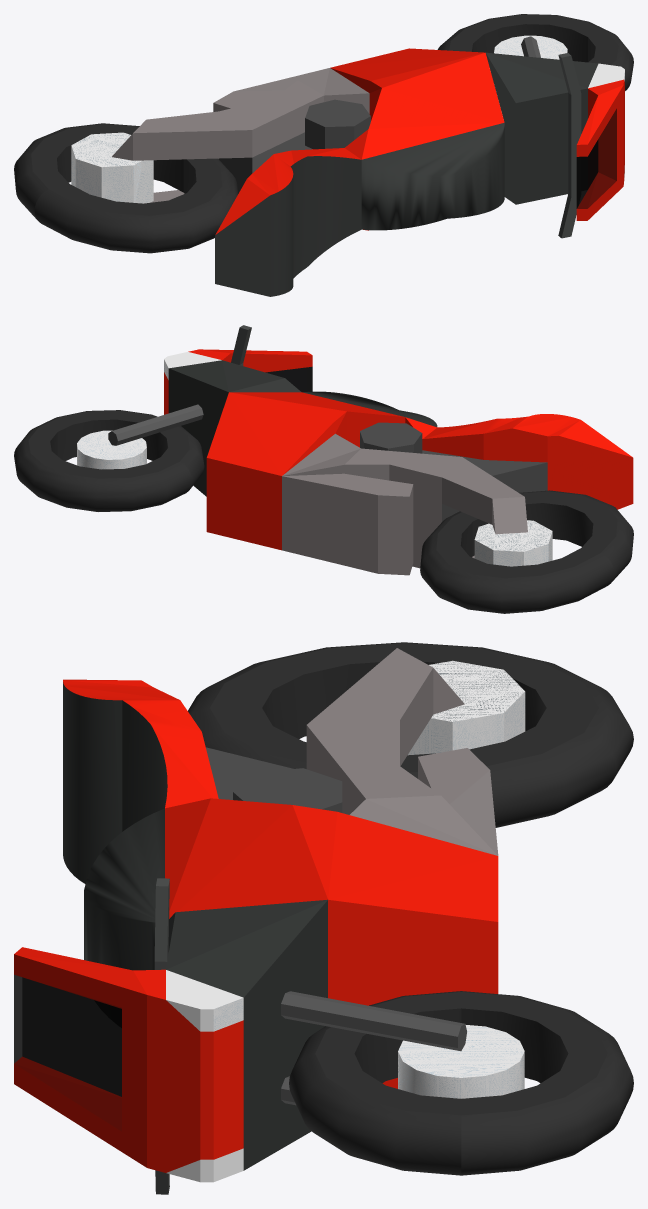
File: motorcycle.dae
3 views of the same model, one above another, from view 1: azimuth 30°, elevation 25°; view 2: azimuth 150°, elevation 25°; view 3: azimuth 270°, elevation 25° (orthographic). The views are drawn at different scales.
Visible parts, largest first — view 1: coords_ME_ID87_MA_material_6, coords_ME_ID63_MA_material_2, coords_ME_ID35_MA_material_0, coords_ME_ID47_MA_material_1, coords_ME_ID129_MA_material_6, coords_ME_ID55_MA_material_2, coords_ME_ID95_MA_material_4, coords_ME_ID20_MA_material_0, coords_ME_ID169_MA_material_10, coords_ME_ID107_MA_material_7, coords_ME_ID28_MA_material_0, coords_ME_ID135_MA_material_8 (+7 smaller); view 2: coords_ME_ID63_MA_material_2, coords_ME_ID47_MA_material_1, coords_ME_ID35_MA_material_0, coords_ME_ID20_MA_material_0, coords_ME_ID129_MA_material_6, coords_ME_ID95_MA_material_4, coords_ME_ID41_MA_material_0, coords_ME_ID123_MA_material_4, coords_ME_ID161_MA_material_10, coords_ME_ID28_MA_material_0, coords_ME_ID55_MA_material_2, coords_ME_ID169_MA_material_10 (+7 smaller); view 3: coords_ME_ID63_MA_material_2, coords_ME_ID20_MA_material_0, coords_ME_ID55_MA_material_2, coords_ME_ID35_MA_material_0, coords_ME_ID87_MA_material_6, coords_ME_ID47_MA_material_1, coords_ME_ID129_MA_material_6, coords_ME_ID135_MA_material_8, coords_ME_ID115_MA_material_8, coords_ME_ID123_MA_material_4, coords_ME_ID95_MA_material_4, coords_ME_ID28_MA_material_0 (+9 smaller).
Boxes of the visible parts, bbox=[...] form: coords_ME_ID87_MA_material_6: bbox=[215, 122, 504, 296]; coords_ME_ID63_MA_material_2: bbox=[215, 48, 504, 234]; coords_ME_ID35_MA_material_0: bbox=[14, 123, 238, 253]; coords_ME_ID47_MA_material_1: bbox=[112, 68, 369, 202]; coords_ME_ID129_MA_material_6: bbox=[486, 52, 598, 204]; coords_ME_ID55_MA_material_2: bbox=[576, 79, 624, 220]; coords_ME_ID95_MA_material_4: bbox=[71, 132, 153, 203]; coords_ME_ID20_MA_material_0: bbox=[437, 14, 633, 90]; coords_ME_ID169_MA_material_10: bbox=[305, 99, 370, 149]; coords_ME_ID107_MA_material_7: bbox=[558, 53, 581, 238]; coords_ME_ID28_MA_material_0: bbox=[472, 24, 595, 62]; coords_ME_ID135_MA_material_8: bbox=[587, 109, 616, 207]; coords_ME_ID63_MA_material_2: bbox=[206, 392, 633, 550]; coords_ME_ID47_MA_material_1: bbox=[282, 433, 527, 575]; coords_ME_ID35_MA_material_0: bbox=[420, 490, 633, 613]; coords_ME_ID20_MA_material_0: bbox=[14, 410, 204, 511]; coords_ME_ID129_MA_material_6: bbox=[168, 360, 301, 496]; coords_ME_ID95_MA_material_4: bbox=[474, 520, 552, 566]; coords_ME_ID41_MA_material_0: bbox=[460, 503, 593, 557]; coords_ME_ID123_MA_material_4: bbox=[77, 430, 146, 469]; coords_ME_ID161_MA_material_10: bbox=[422, 450, 547, 521]; coords_ME_ID28_MA_material_0: bbox=[50, 419, 167, 460]; coords_ME_ID55_MA_material_2: bbox=[164, 349, 312, 414]; coords_ME_ID169_MA_material_10: bbox=[360, 422, 422, 453]; coords_ME_ID63_MA_material_2: bbox=[63, 679, 498, 1088]; coords_ME_ID20_MA_material_0: bbox=[289, 991, 633, 1175]; coords_ME_ID55_MA_material_2: bbox=[14, 947, 243, 1172]; coords_ME_ID35_MA_material_0: bbox=[188, 642, 633, 827]; coords_ME_ID87_MA_material_6: bbox=[63, 682, 167, 970]; coords_ME_ID47_MA_material_1: bbox=[306, 648, 498, 855]; coords_ME_ID129_MA_material_6: bbox=[166, 899, 327, 1170]; coords_ME_ID135_MA_material_8: bbox=[14, 975, 121, 1131]; coords_ME_ID115_MA_material_8: bbox=[22, 978, 121, 1096]; coords_ME_ID123_MA_material_4: bbox=[398, 1025, 524, 1098]; coords_ME_ID95_MA_material_4: bbox=[408, 660, 525, 755]; coords_ME_ID28_MA_material_0: bbox=[354, 1008, 568, 1083].
Bounding box in the file's own units: 23.9 × 6.84 × 12.47.
